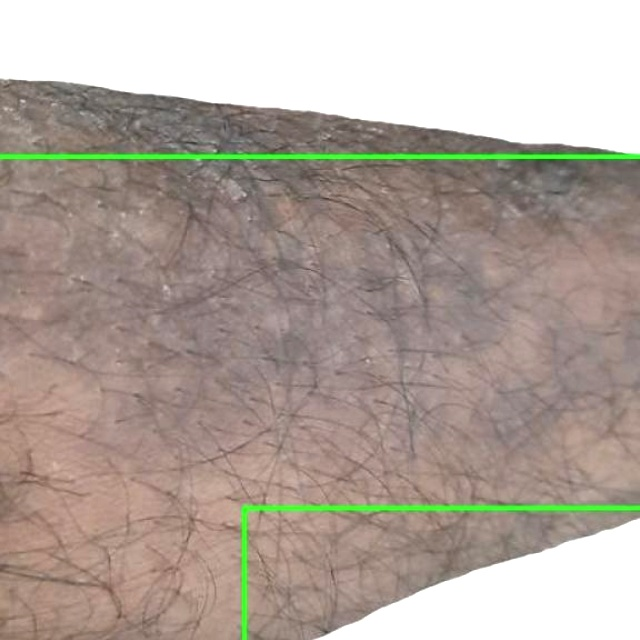Contact Dermatitis: (0, 0, 639, 156), (244, 507, 639, 639)
